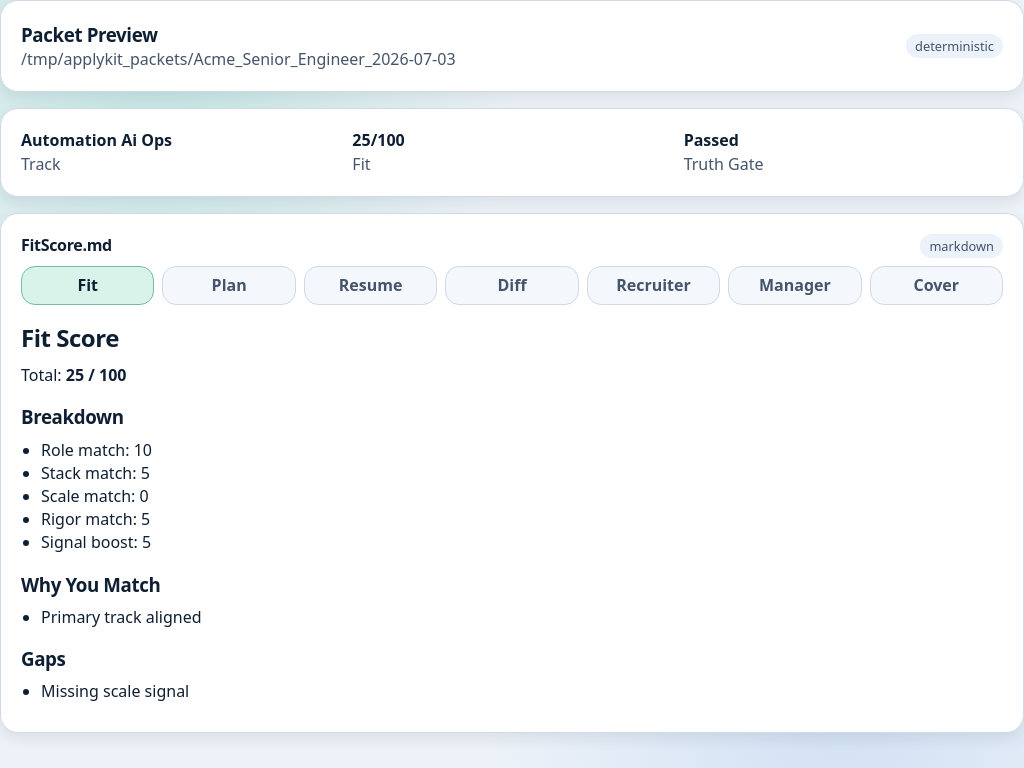
Test: PacketPreview › switches between generated packet artifacts
Check: the heading "Packet Preview" is shown, box [21, 22, 158, 47]
Check: the heading "FitScore.md" is shown, box [21, 234, 112, 258]
Click the tab "Plan".
click(229, 286)  # box [162, 266, 296, 306]
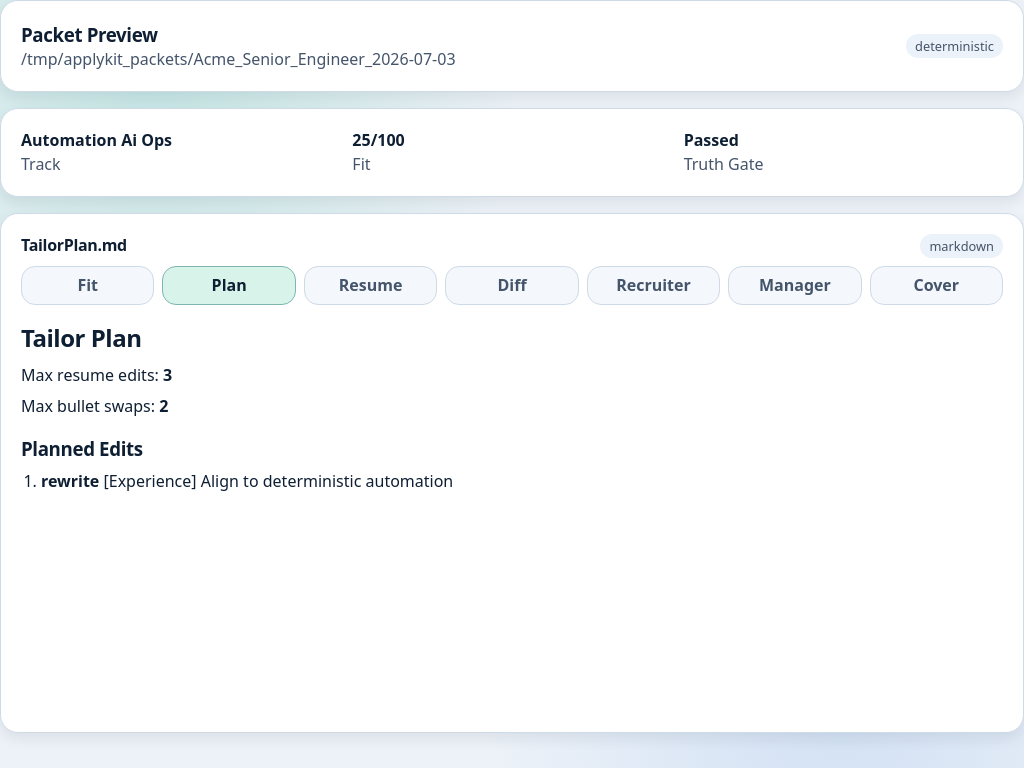
Check: the heading "TailorPlan.md" is shown, box [21, 234, 127, 258]
Click the tab "Resume".
click(370, 286)  # box [304, 266, 437, 306]
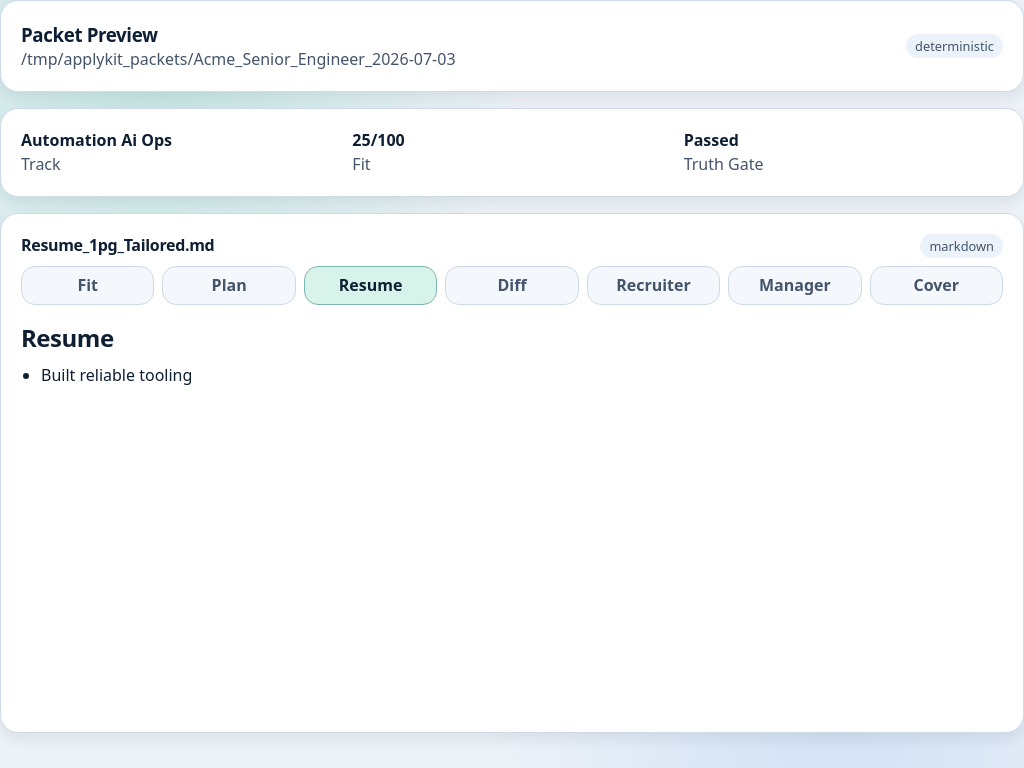
Check: the heading "Resume_1pg_Tailored.md" is shown, box [21, 234, 214, 258]
Check: the list item "Built reliable tooling" is shown, box [41, 364, 192, 386]
Click the tab "Diff".
click(512, 286)  # box [445, 266, 579, 306]
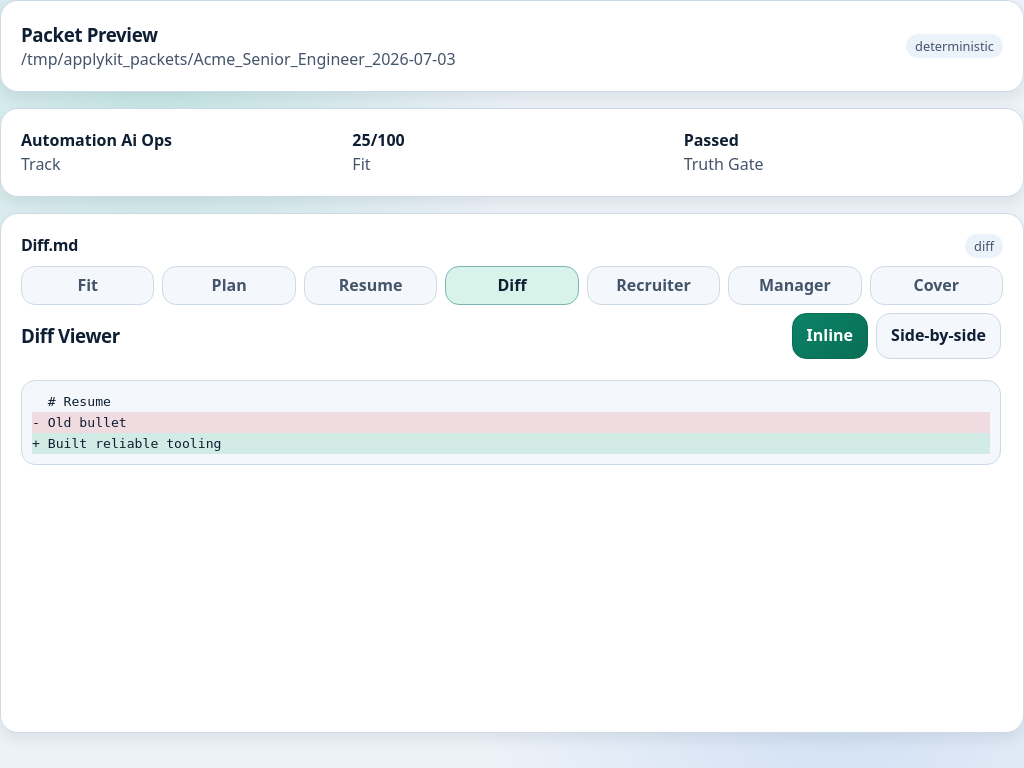
Check: the heading "Diff.md" is shown, box [21, 234, 78, 258]
Check: the heading "Diff Viewer" is shown, box [21, 322, 120, 350]
